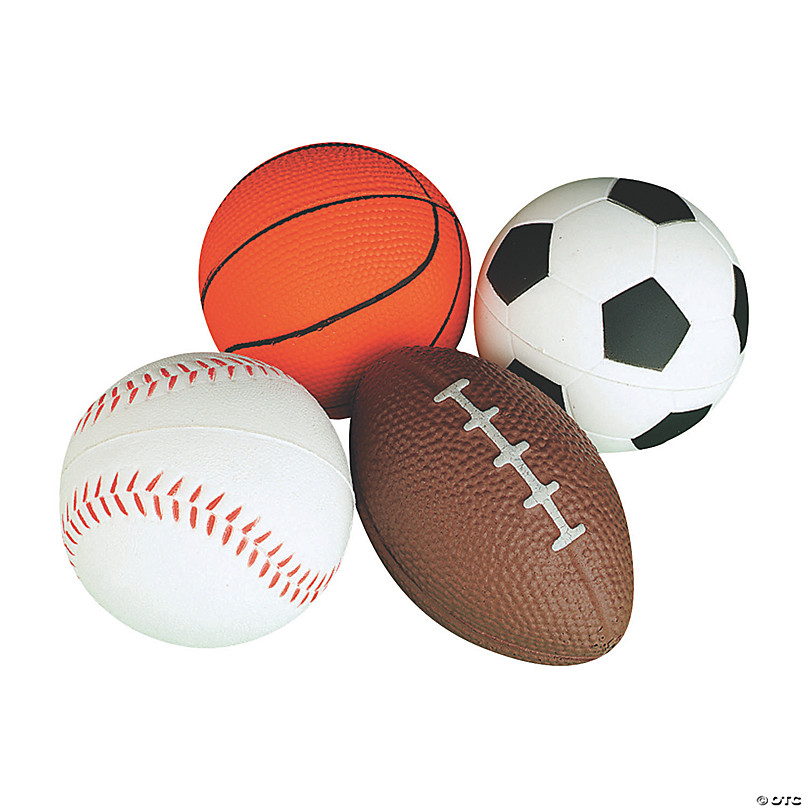sphere: (59, 352, 354, 647), (472, 177, 749, 452), (198, 142, 472, 419)
